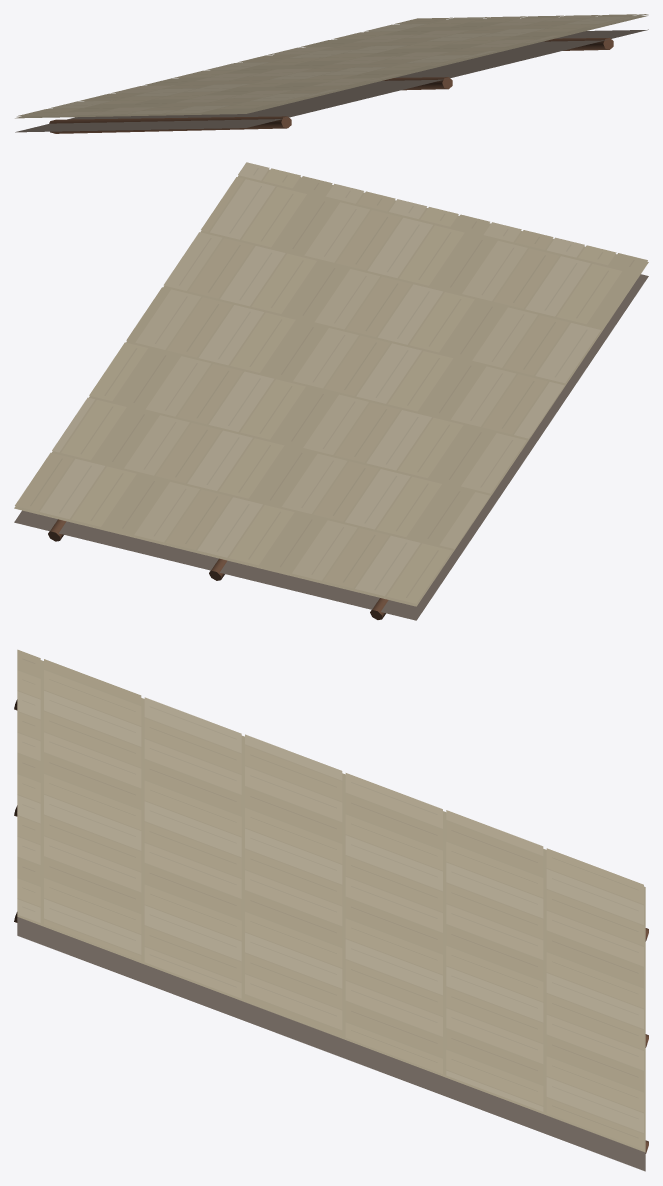
File: Roof_Slope_22p5.glb
The picture shows the model from 3 angles, top to bottom: view 1: azimuth 30°, elevation 25°; view 2: azimuth 150°, elevation 25°; view 3: azimuth 270°, elevation 25°; orthographic projection. The views are drawn at different scales.
Visible parts, largest first — view 1: _MeshInstance3D_3475, _MeshInstance3D_3476, _MeshInstance3D_3477, _MeshInstance3D_3478; view 2: _MeshInstance3D_3475; view 3: _MeshInstance3D_3475.
Boxes of the visible parts, x1,y1,x2,y2 form: _MeshInstance3D_3475: [15, 14, 648, 132]; _MeshInstance3D_3476: [49, 116, 291, 133]; _MeshInstance3D_3477: [382, 77, 452, 90]; _MeshInstance3D_3478: [544, 38, 613, 50]; _MeshInstance3D_3475: [14, 162, 648, 620]; _MeshInstance3D_3475: [17, 649, 645, 1171].
Size of the model in its own units: 3 by 1.43 by 3.03.
